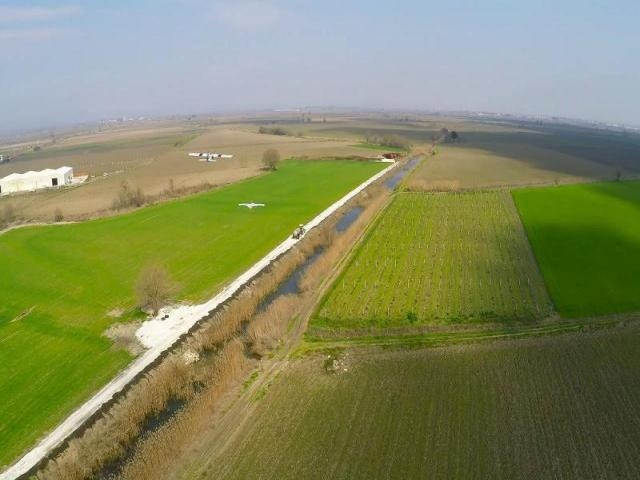hedef: (186, 141, 235, 173), (232, 195, 270, 215)
